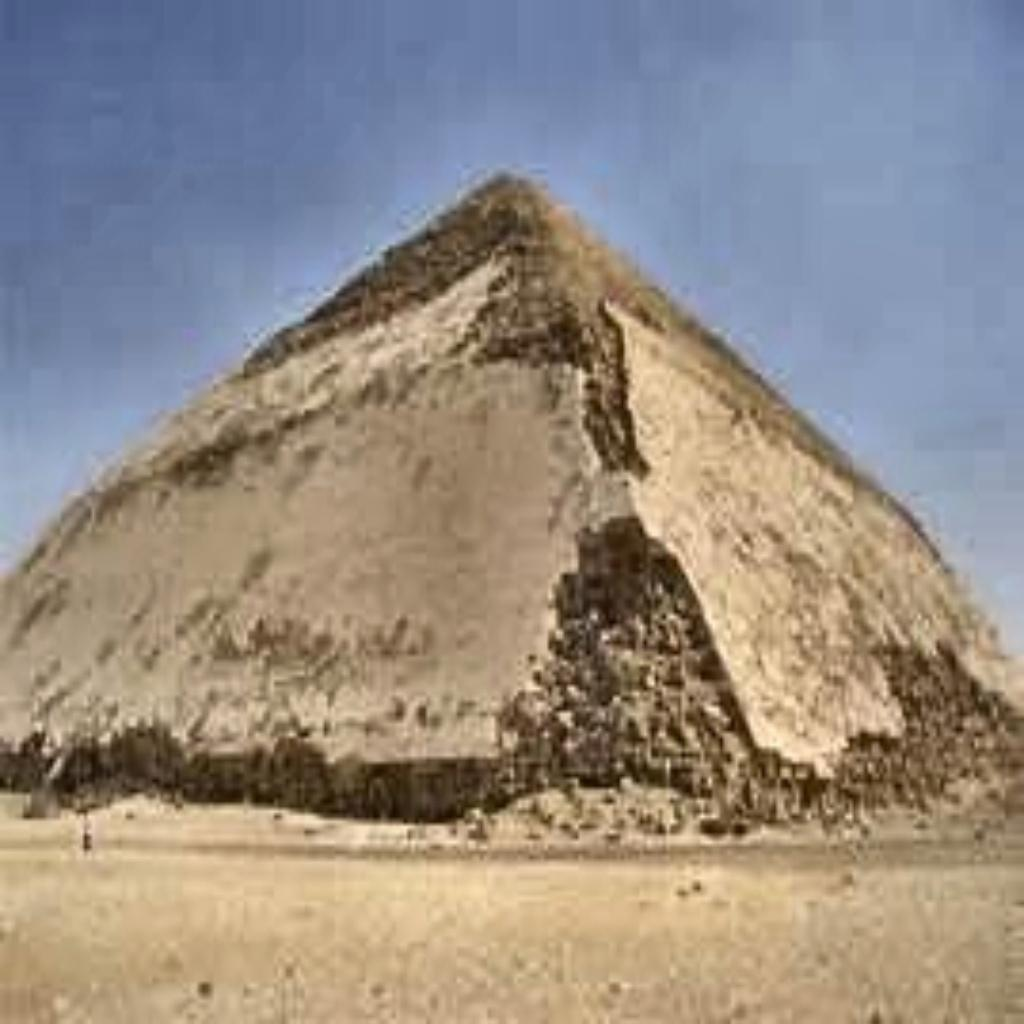Bent Pyramid of King Sneferu: (0, 158, 1020, 824)
